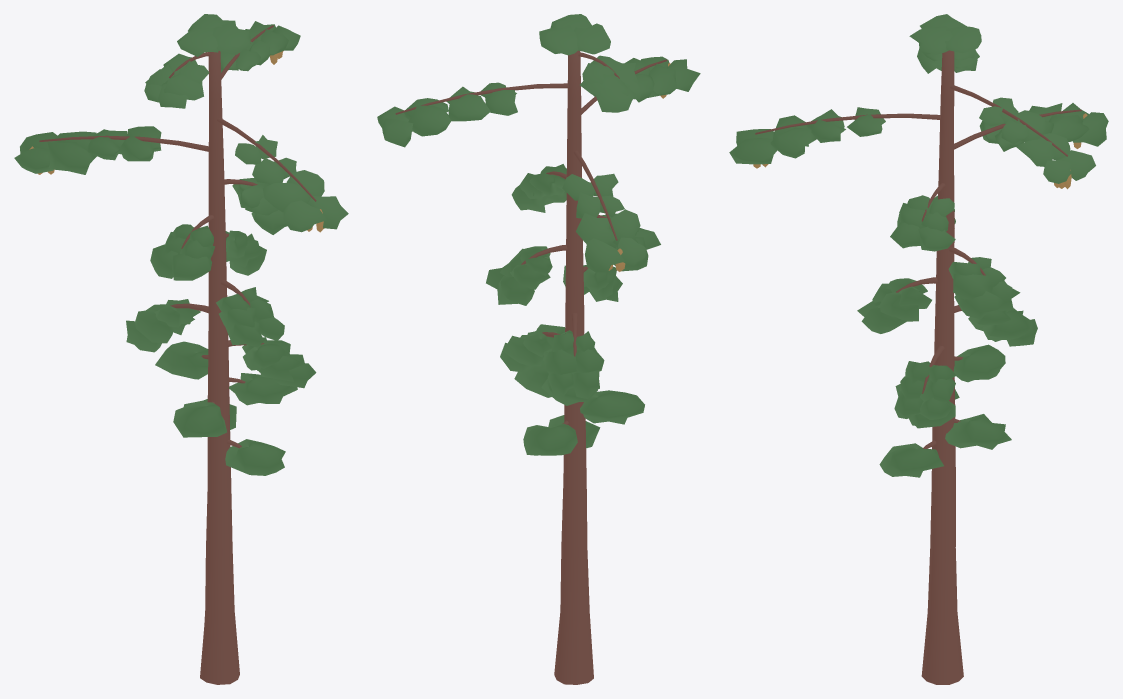
Rendered from Blender_SugarPine_1.glb.
3 renders of one model, left to right at view 1: azimuth 30°, elevation 25°; view 2: azimuth 150°, elevation 25°; view 3: azimuth 270°, elevation 25°, orthographic.
Parts seen in each view (by area): view 1: Blender_SugarPine_1; view 2: Blender_SugarPine_1; view 3: Blender_SugarPine_1.
Part boxes in pixels (bbox=[...]): Blender_SugarPine_1: bbox=[14, 14, 348, 684]; Blender_SugarPine_1: bbox=[377, 14, 700, 684]; Blender_SugarPine_1: bbox=[729, 14, 1108, 684].
Bounding box in the file's own units: 21.67 × 49.03 × 25.96.
